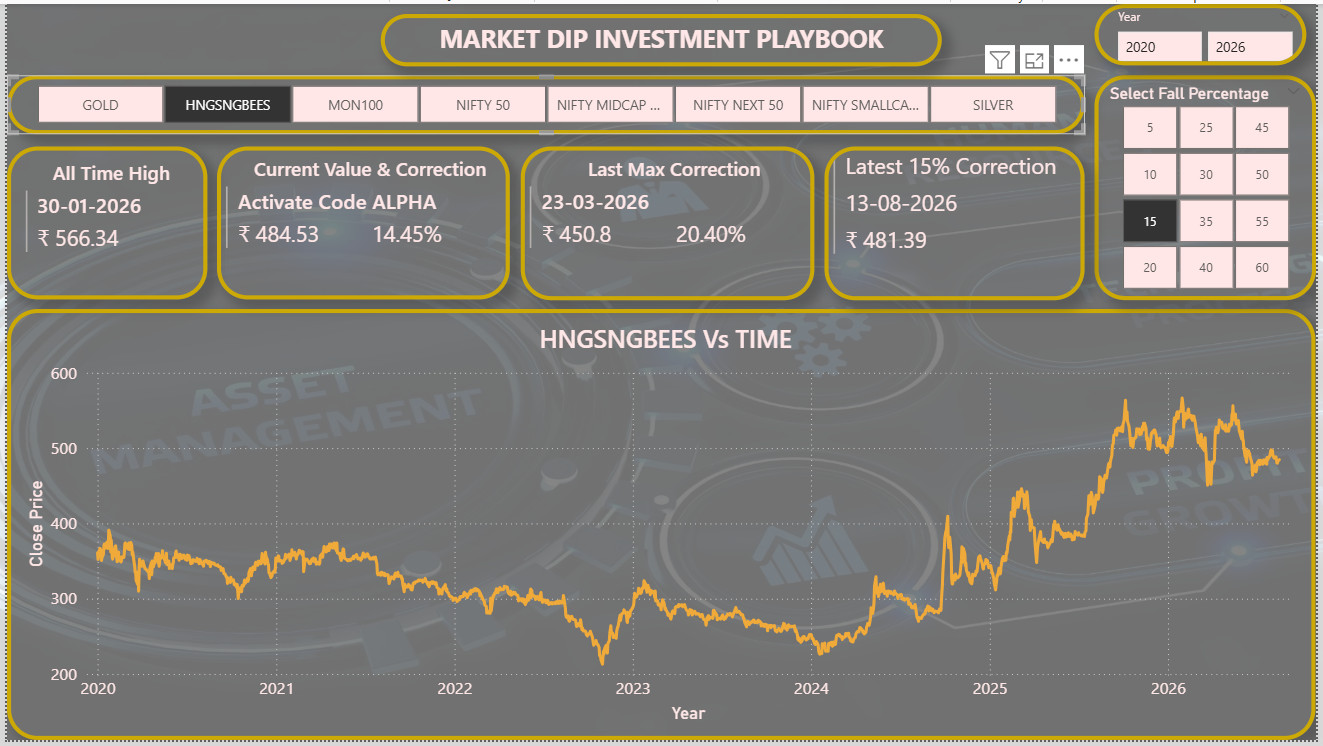

What the dashboard file says about the page in this screenshot:
{"tool":"powerbi","page":{"name":"Dashboard","canvas":[1280,720],"ordinal":0},"visuals":[{"type":"slicer","fields":{"Values":["Commodities.Asset Class"]},"box":[0,69.7,1054.1,57.5],"z":0},{"type":"multiRowCard","title":"All Time High","fields":{"Values":["Combine Data.Dt ATH","Combine Data.ATH"]},"box":[0,140,196.2,149.6],"z":1000},{"type":"multiRowCard","title":"Current Value & Correction","fields":{"Values":["Combine Data.Current Value","Combine Data.Current Correction","Combine Data.Play Book"]},"box":[205.8,140,286.8,149.6],"z":2000},{"type":"multiRowCard","title":"Last Max Correction","fields":{"Values":["Combine Data.dt max correction","Combine Data.Max correction","Combine Data.Max correction(%)"]},"box":[502.4,139.4,287.4,150.4],"z":3000},{"type":"lineChart","fields":{"Category":["Combine Data.DATE.Variation.Date Hierarchy.Year","Combine Data.DATE.Variation.Date Hierarchy.Quarter","Combine Data.DATE.Variation.Date Hierarchy.Month","Combine Data.DATE.Variation.Date Hierarchy.Day"],"Y":["Sum(Combine Data.ADJ. PRICE)"]},"box":[0,298.4,1280.3,421.9],"z":4000},{"type":"slicer","fields":{"Values":["Fall Percentage.Fall Percentage"]},"box":[1063.9,69.7,216.4,220.1],"z":5000},{"type":"multiRowCard","title":"Latest Correction","fields":{"Values":["Fall Percentage.Header","Combine Data.Date of Fall","Combine Data.Fall Value"]},"box":[799.5,139.4,254.3,150.4],"z":6000},{"type":"textbox","box":[365.5,9.8,549.1,51.4],"z":7000},{"type":"slicer","fields":{"Values":["Combine Data.DATE.Variation.Date Hierarchy.Year"]},"box":[1063.5,0,207.2,60.4],"z":8000}]}

Visuals, with their boxes in screenshot pixels (x1, y1, x2, y2), scaled from the page's 1280x720 canvas onto the 1323x746 screenshot:
slicer - Commodities.Asset Class: {"left": 0, "top": 72, "right": 1090, "bottom": 132}
"All Time High" multiRowCard: {"left": 0, "top": 145, "right": 203, "bottom": 300}
"Current Value & Correction" multiRowCard: {"left": 213, "top": 145, "right": 509, "bottom": 300}
"Last Max Correction" multiRowCard: {"left": 519, "top": 144, "right": 816, "bottom": 300}
lineChart - Combine Data.DATE.Variation.Date Hierarchy.Year x Combine Data.DATE.Variation.Date Hierarchy.Quarter: {"left": 0, "top": 309, "right": 1322, "bottom": 745}
slicer - Fall Percentage.Fall Percentage: {"left": 1100, "top": 72, "right": 1322, "bottom": 300}
"Latest Correction" multiRowCard: {"left": 826, "top": 144, "right": 1089, "bottom": 300}
textbox: {"left": 378, "top": 10, "right": 945, "bottom": 63}
slicer - Combine Data.DATE.Variation.Date Hierarchy.Year: {"left": 1099, "top": 0, "right": 1313, "bottom": 63}
